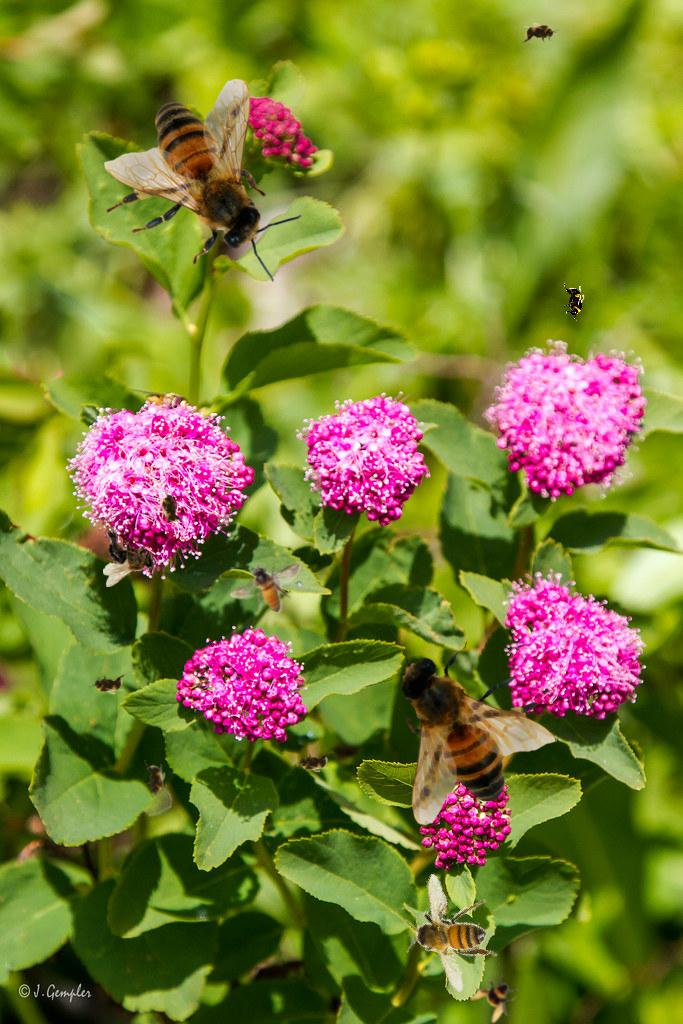Bee: (358, 623, 557, 827), (104, 78, 303, 282), (378, 857, 521, 1003), (465, 966, 529, 1024), (230, 563, 301, 613), (103, 525, 156, 587), (156, 486, 186, 530), (520, 22, 560, 44), (144, 760, 166, 800), (293, 751, 333, 773), (88, 673, 128, 695), (563, 282, 585, 322)
